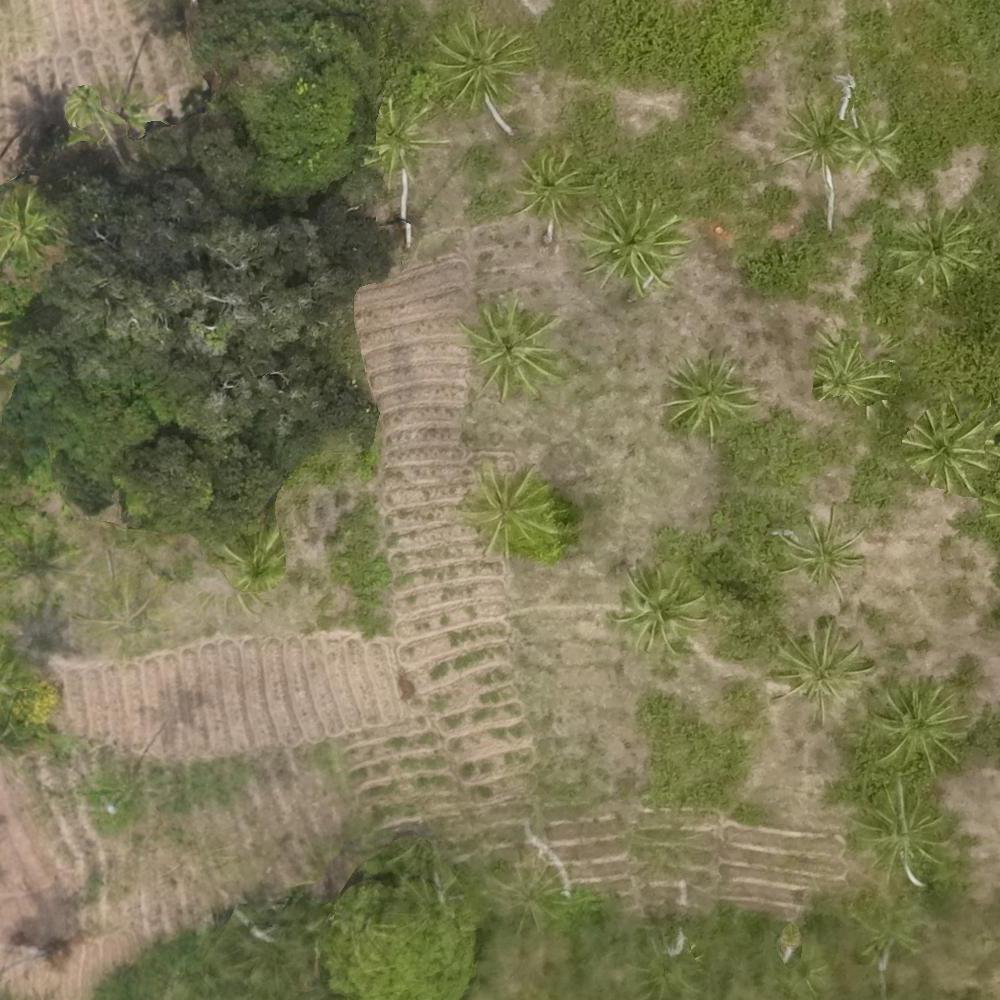Palm: (854, 781, 955, 878), (582, 196, 684, 287), (460, 298, 559, 391), (615, 560, 708, 654), (771, 624, 867, 715), (869, 676, 964, 765), (432, 19, 526, 108), (461, 465, 553, 554), (512, 141, 601, 228), (887, 211, 982, 290), (779, 508, 865, 590), (905, 408, 983, 494), (663, 352, 750, 428), (365, 100, 443, 181), (809, 328, 885, 407), (771, 104, 853, 177), (842, 116, 900, 177), (220, 540, 278, 591)
